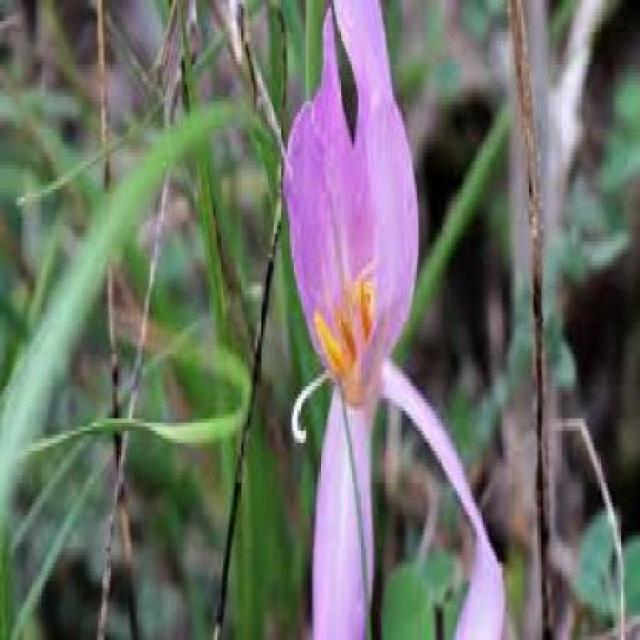saffron open: (284, 0, 418, 404)
